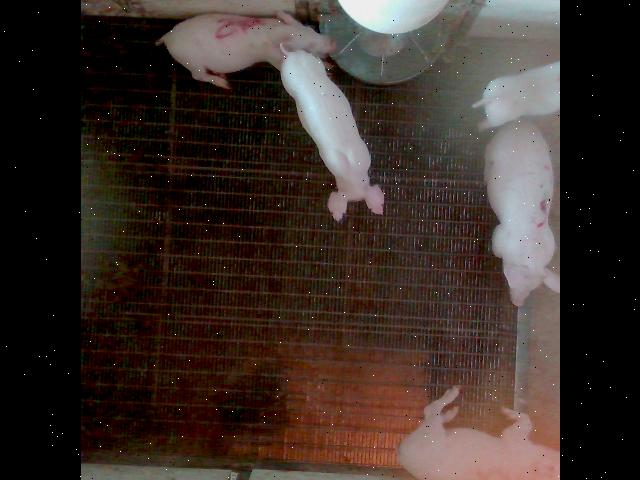pig-2: (396, 386, 559, 480)
pig-3: (484, 119, 559, 306)
pig-5: (155, 11, 334, 89)
